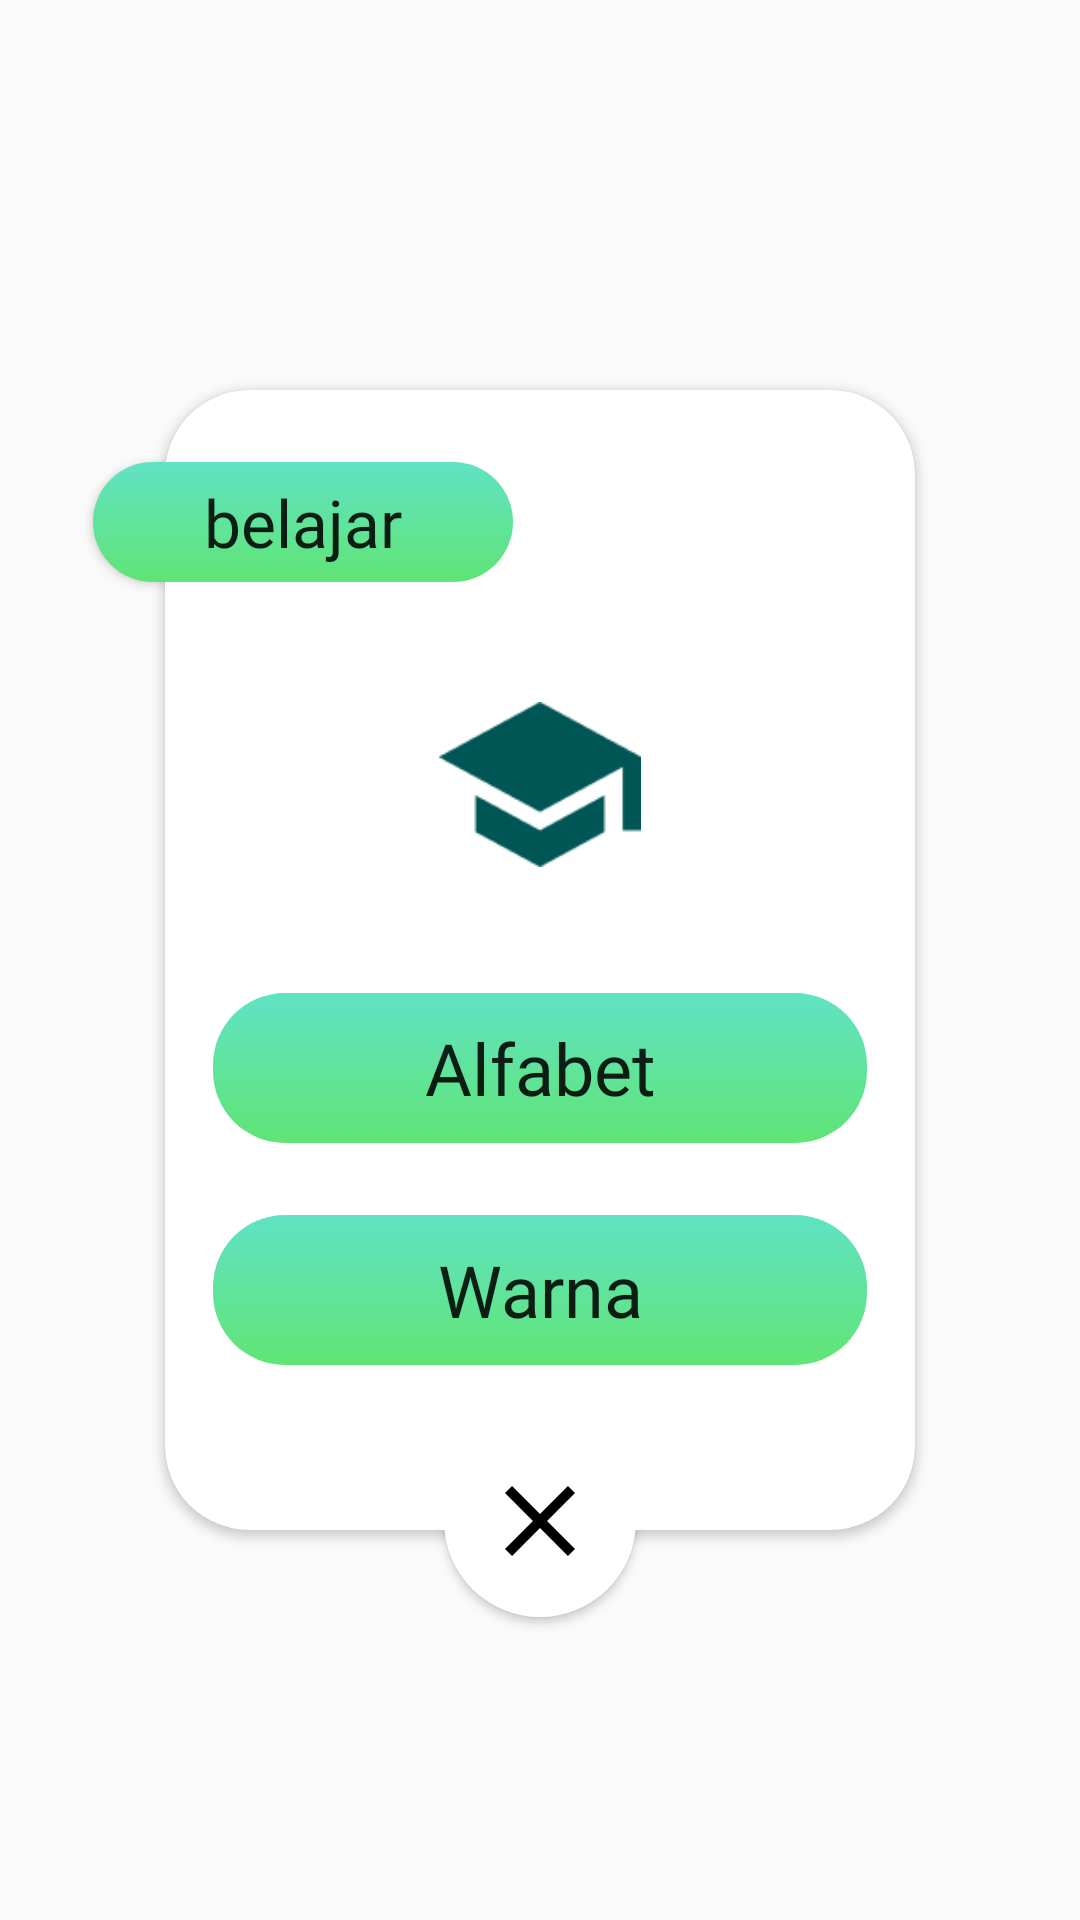

Icons on this 1080 x 1920 Android screen, each with its box as (x1, y1, x2, y2):
closepopup: (505, 1486, 575, 1556)
learnicon: (439, 702, 641, 867)
